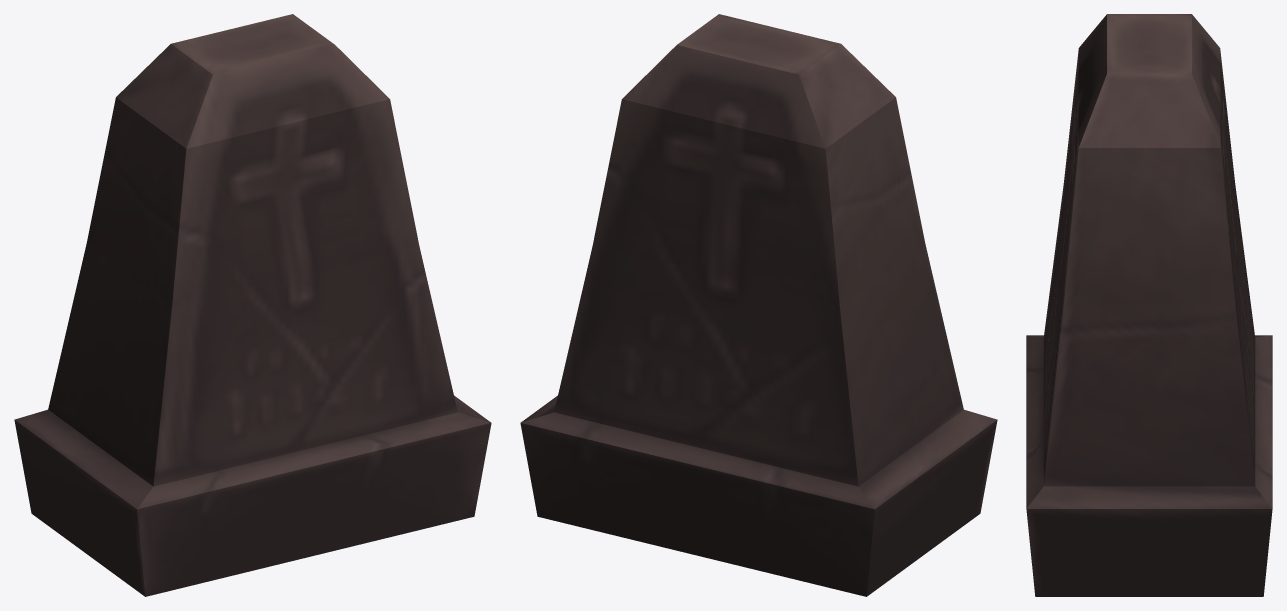
File: grave_3.fbx
3 renders of one model, left to right at view 1: azimuth 30°, elevation 25°; view 2: azimuth 150°, elevation 25°; view 3: azimuth 270°, elevation 25°, orthographic.
Parts seen in each view (by area): view 1: grave_3; view 2: grave_3; view 3: grave_3.
Boxes of the visible parts, x1,y1,x2,y2 form: grave_3: (14,14,491,596); grave_3: (520,14,997,596); grave_3: (1026,14,1272,596).
Size of the model in its own units: 0.6128 by 0.7775 by 0.3671.
